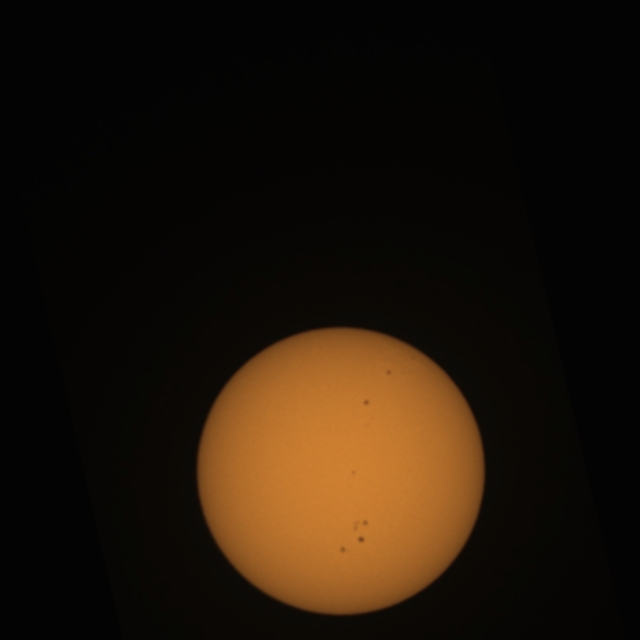sunspot: (338, 533, 365, 555), (351, 519, 369, 545), (362, 415, 375, 431), (356, 534, 366, 545), (338, 545, 348, 555), (362, 398, 371, 407), (385, 368, 393, 377), (350, 469, 357, 477)
